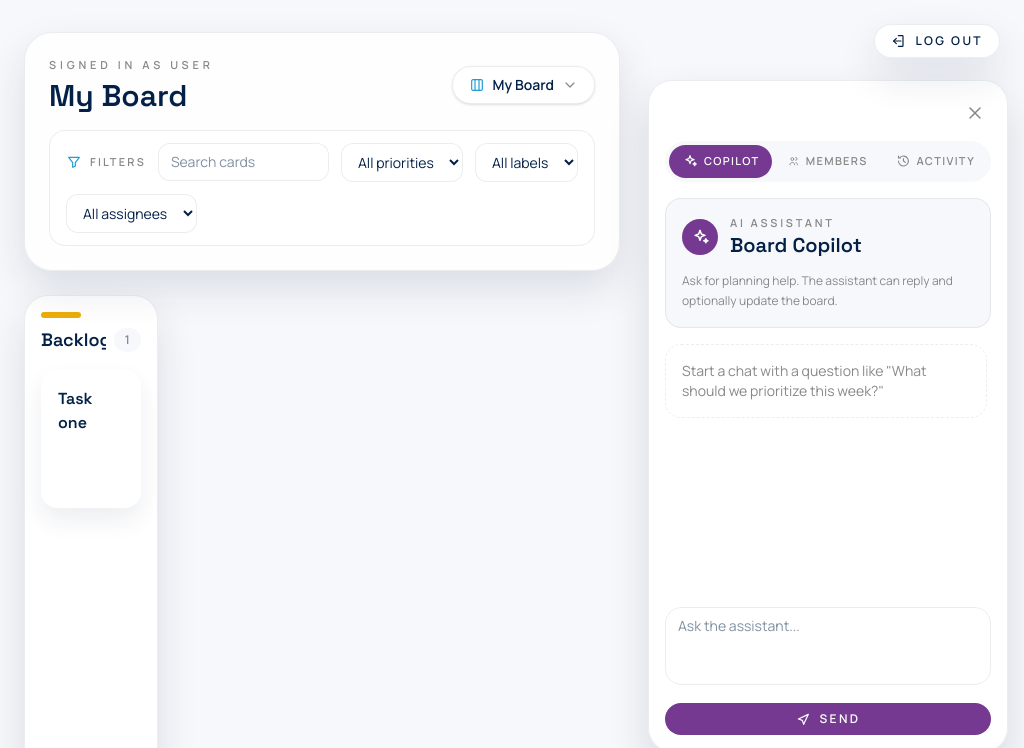
Test case: Workspace › applies AI board updates from the copilot
Expected: the field showing "My Board" is shown, [49, 78, 410, 114]
Type "rename it" into the text box named "AI chat input" at (828, 646), box [665, 607, 991, 685]
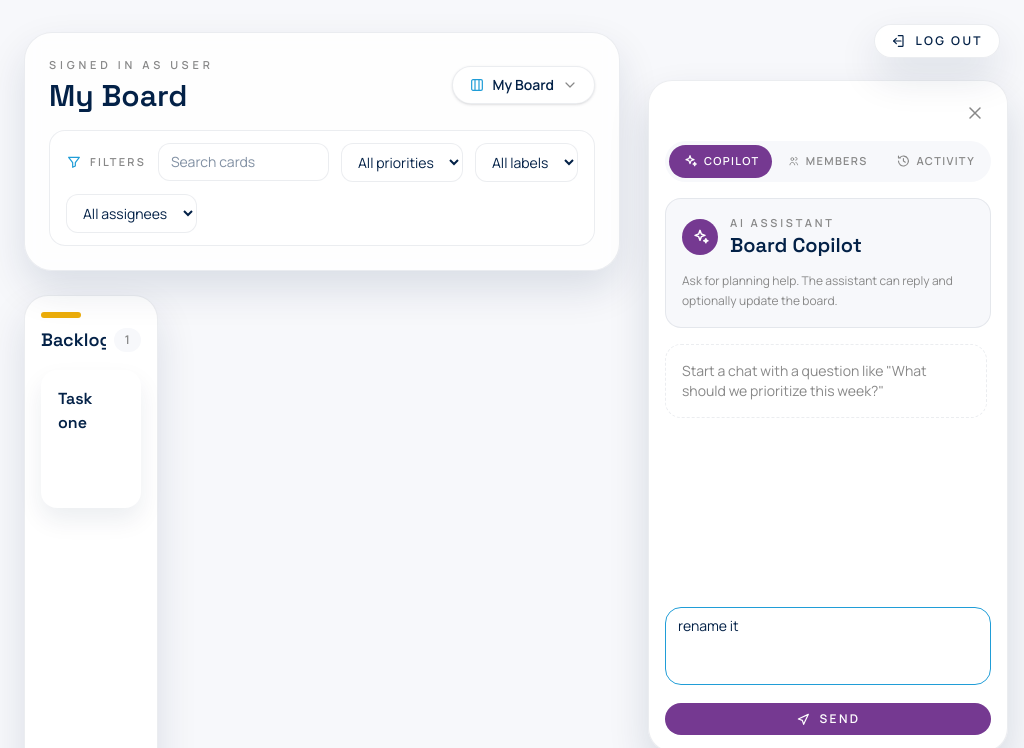
Click the button with test id "ai-chat-send" at (828, 719), box [665, 703, 991, 735]
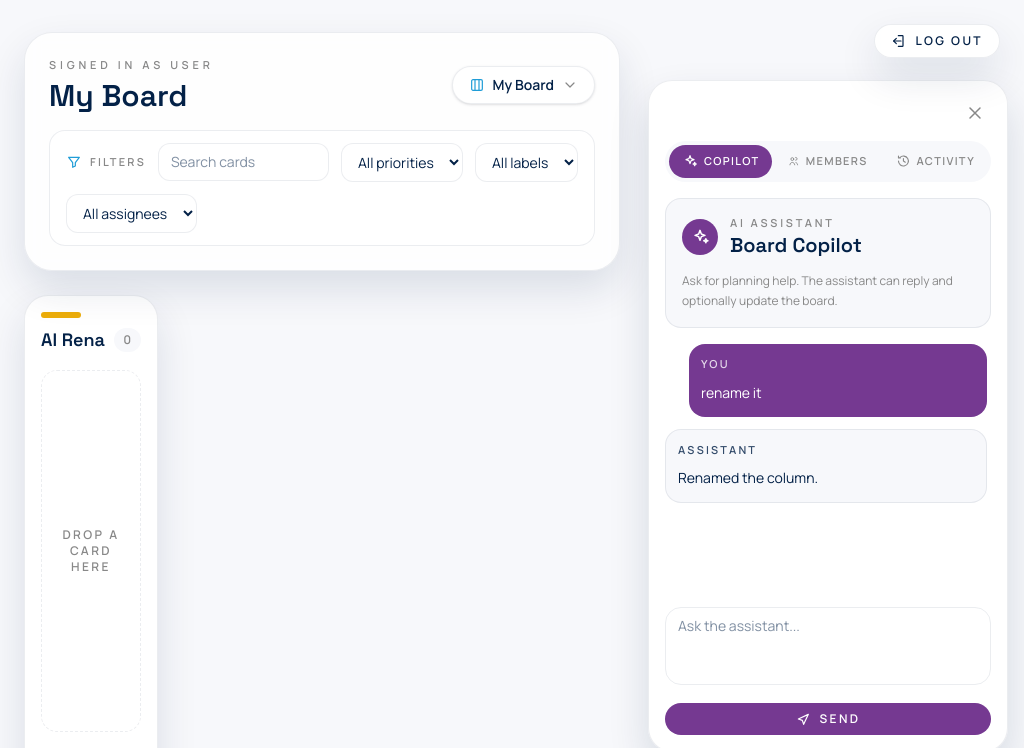
Now the text "Renamed the column." is shown, box [678, 468, 818, 487]
Now the field named "Column title" holds "AI Renamed", box [41, 326, 106, 354]
